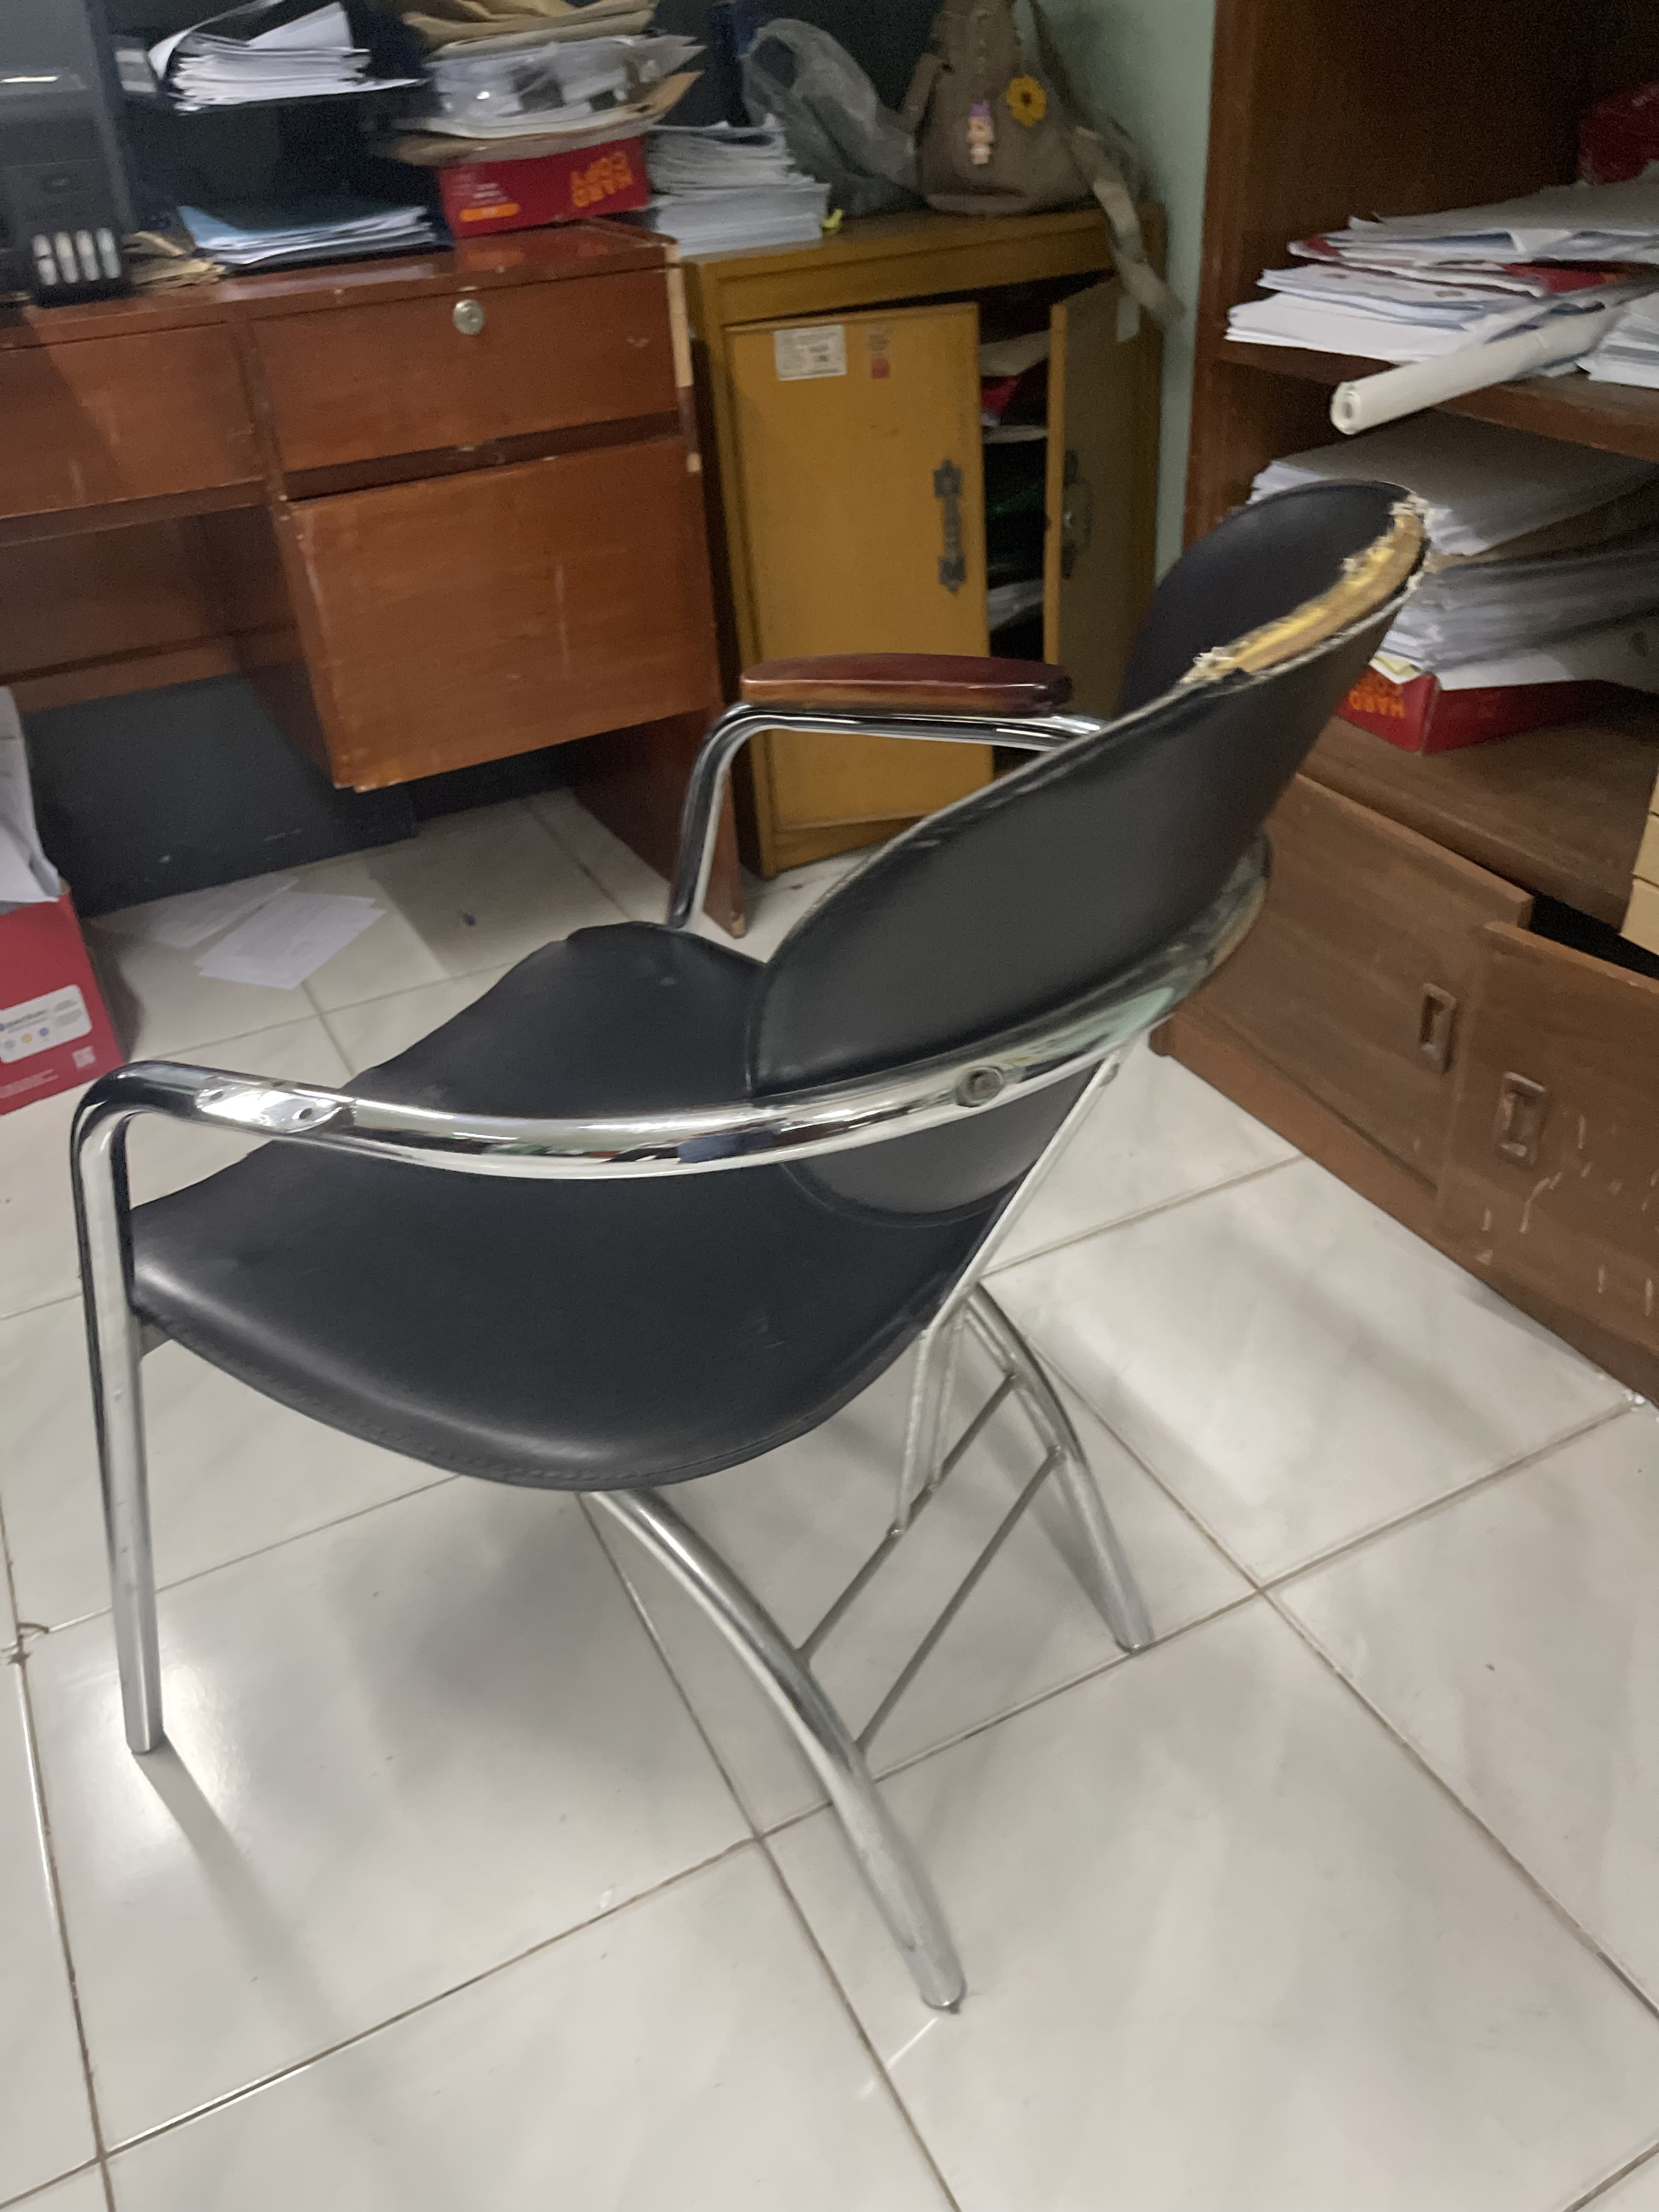chair1: (71, 474, 1439, 2029)
